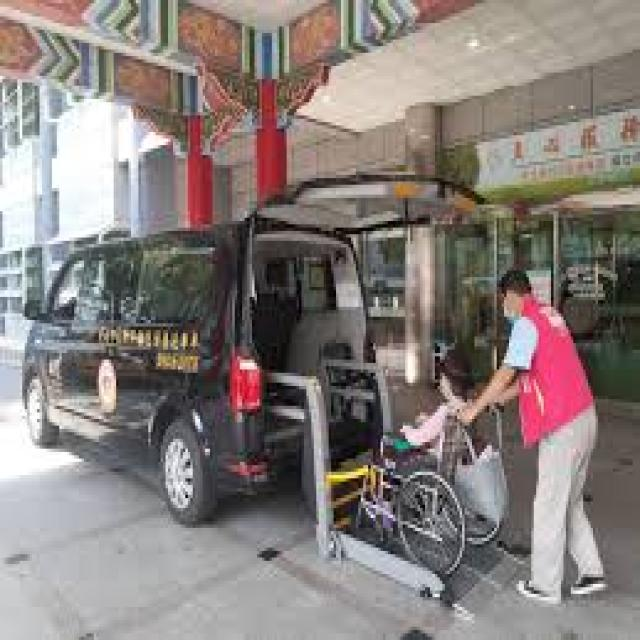wheelchairs: (348, 396, 519, 577)
